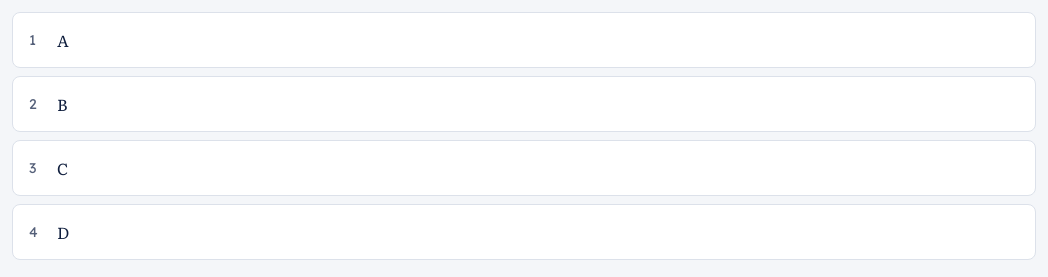
Test case: C4 Lựa chọn › vùng aria-live báo kết quả; icon đúng và sai khác nhau
Click the text "A": coordinates (63, 40) top-left (57, 28), bottom-right (69, 52)
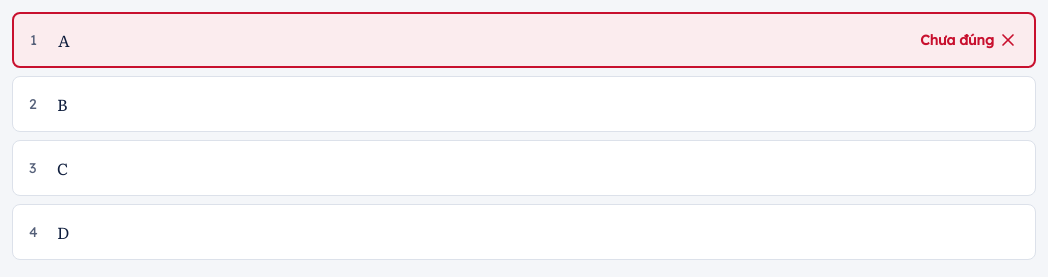
Click the text "B": coordinates (62, 104) top-left (57, 92), bottom-right (68, 116)
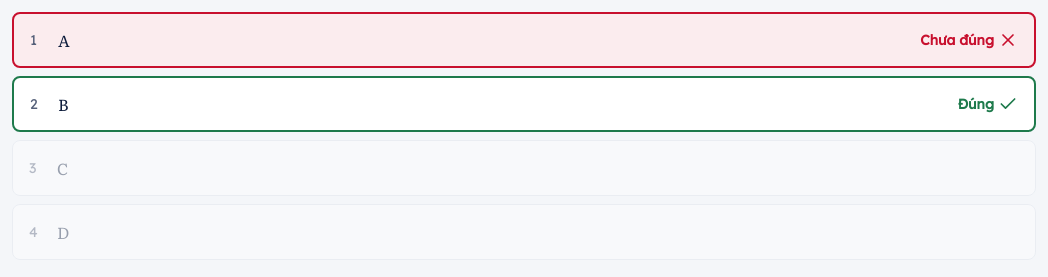
Expected: the 1st icon is shown, top-left (998, 30), bottom-right (1018, 50)
Expected: the 2nd icon is shown, top-left (998, 94), bottom-right (1018, 114)
